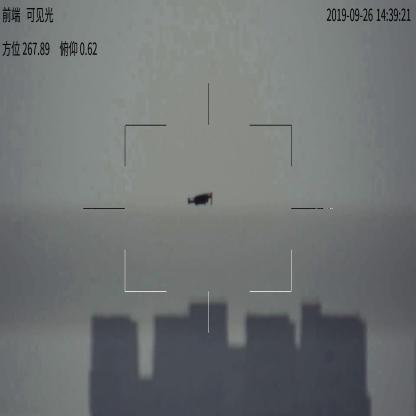uav: (183, 190, 215, 210)
